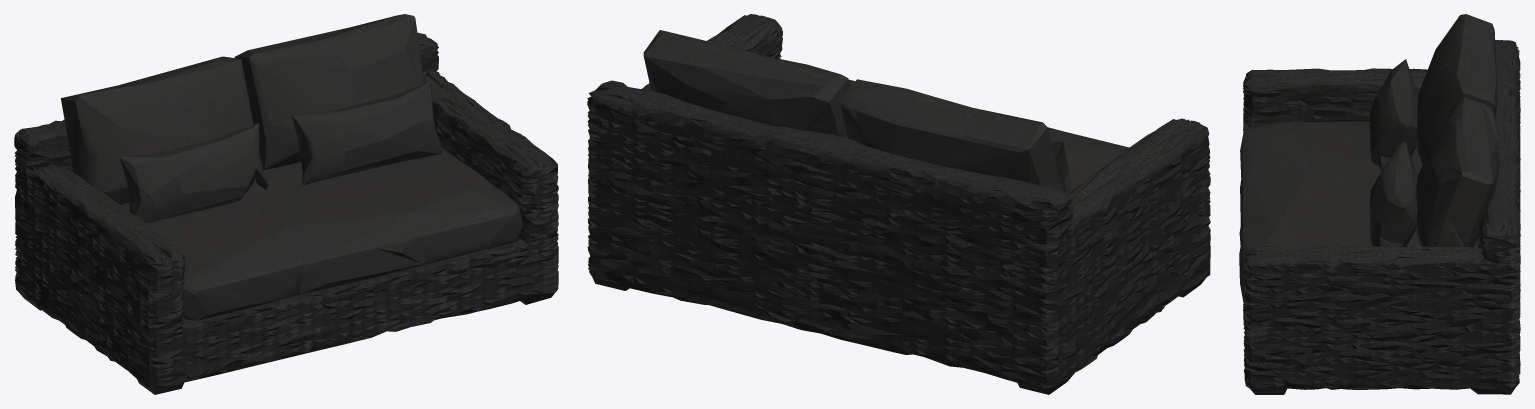
File: suite-balcony-seat.glb
The picture shows the model from 3 angles, left to right: view 1: azimuth 30°, elevation 25°; view 2: azimuth 150°, elevation 25°; view 3: azimuth 270°, elevation 25°; orthographic projection. The views are drawn at different scales.
Visible parts, largest first — view 1: output_unwrapped; view 2: output_unwrapped; view 3: output_unwrapped.
Part boxes in pixels (x1,y1,x2,y2): output_unwrapped: (14,14,558,394); output_unwrapped: (587,14,1210,394); output_unwrapped: (1239,14,1520,394).
Bounding box in the file's own units: 1.9 × 0.9379 × 1.15.
1 material, 1 textured.
